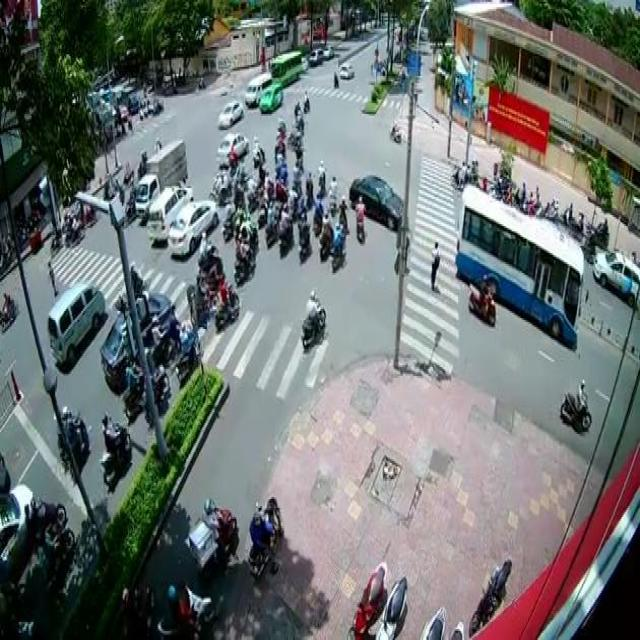bus: (456, 181, 581, 351)
car: (100, 291, 173, 394), (46, 278, 104, 367), (348, 172, 406, 233), (168, 197, 218, 255), (592, 246, 639, 302), (146, 187, 193, 240), (214, 130, 248, 168), (258, 79, 283, 114), (215, 100, 243, 130)
motorcycle: (191, 495, 239, 584), (157, 584, 215, 640), (246, 492, 283, 578), (98, 410, 132, 484), (22, 496, 67, 544), (558, 376, 590, 436), (174, 320, 203, 385), (467, 270, 496, 328), (300, 284, 326, 347), (214, 269, 239, 331), (122, 358, 145, 423), (233, 232, 255, 288), (278, 199, 294, 258), (449, 156, 472, 192), (330, 221, 346, 271), (221, 197, 238, 242), (318, 210, 333, 260), (296, 210, 310, 260), (264, 197, 278, 246), (354, 195, 364, 244)
truck: (134, 137, 187, 219), (243, 70, 272, 106)
